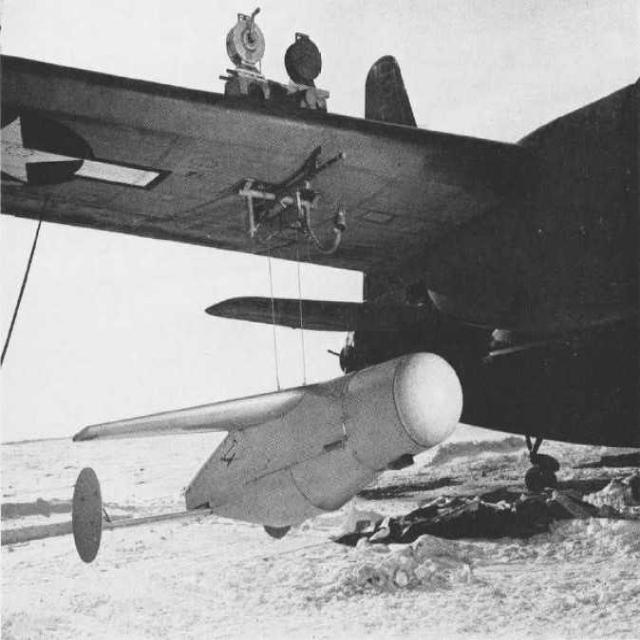missile: (76, 353, 460, 546)
